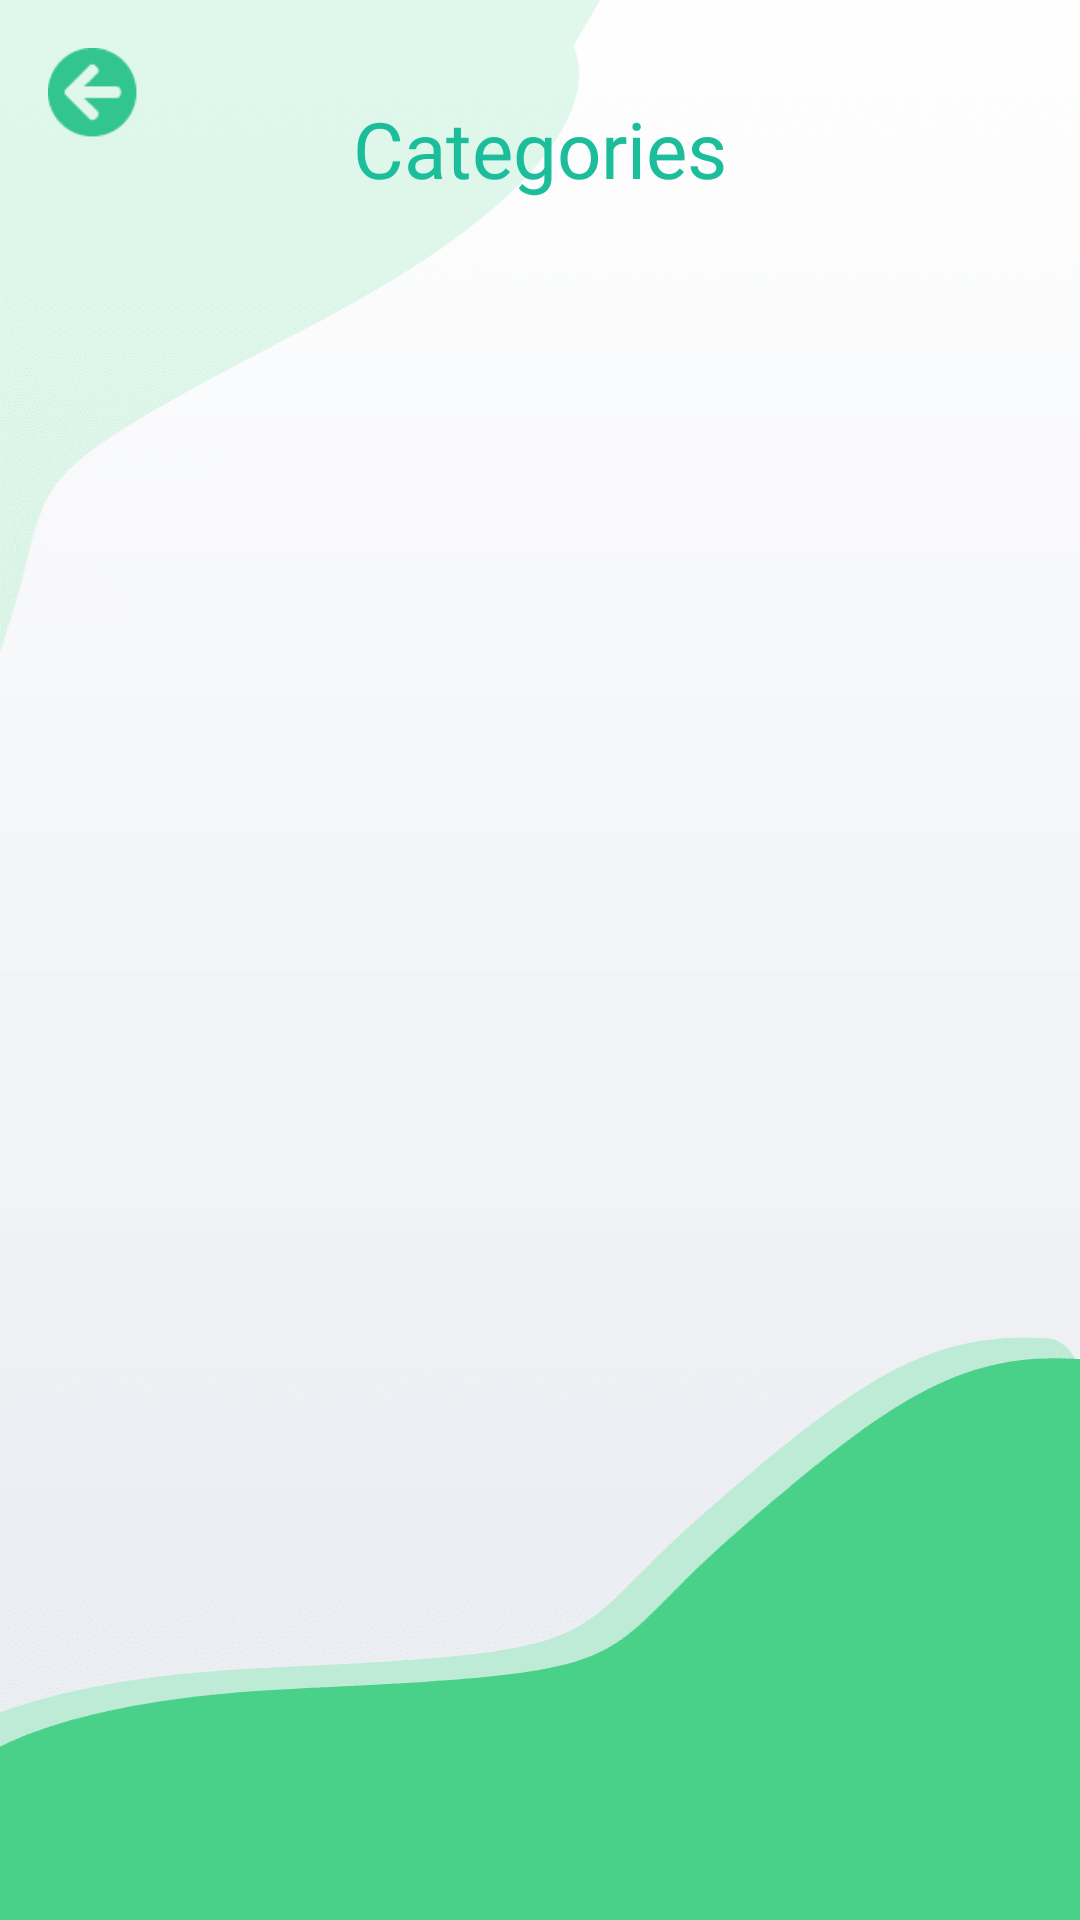

Screen size 1080*1920. Icon name, then its box in pixels as {"x1": x1, "y1": y1, "x2": x2, "y2": y2}:
signupabackbutton: {"x1": 48, "y1": 48, "x2": 137, "y2": 137}
